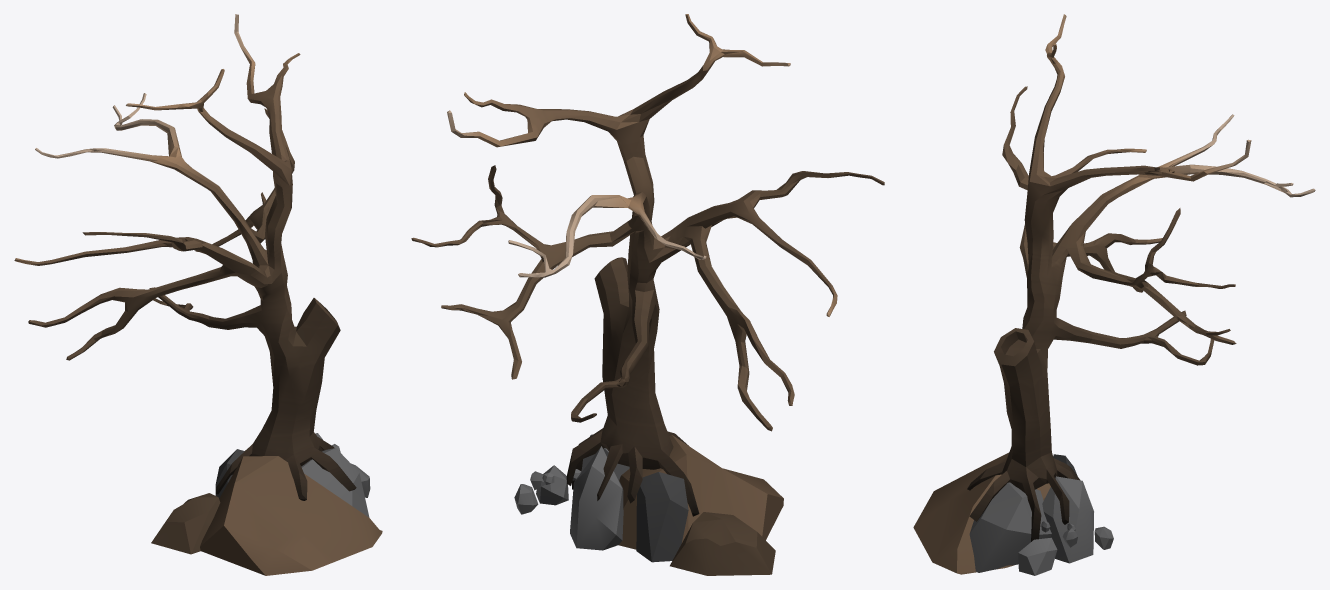
Rendered from ea03_environment_nature_tree_1b_pre_6.001_lev2.glb.
The picture shows the model from 3 angles, left to right: view 1: azimuth 30°, elevation 25°; view 2: azimuth 150°, elevation 25°; view 3: azimuth 270°, elevation 25°; orthographic projection. The views are drawn at different scales.
Parts seen in each view (by area): view 1: ea03_environment_nature_tree_1b_pre_6.001_lev2; view 2: ea03_environment_nature_tree_1b_pre_6.001_lev2; view 3: ea03_environment_nature_tree_1b_pre_6.001_lev2.
Boxes of the visible parts, x1,y1,x2,y2 form: ea03_environment_nature_tree_1b_pre_6.001_lev2: [14, 14, 382, 575]; ea03_environment_nature_tree_1b_pre_6.001_lev2: [411, 14, 884, 575]; ea03_environment_nature_tree_1b_pre_6.001_lev2: [913, 14, 1315, 575].
Bounding box in the file's own units: 26.95 × 37.78 × 29.13.
1 material, 1 textured.
